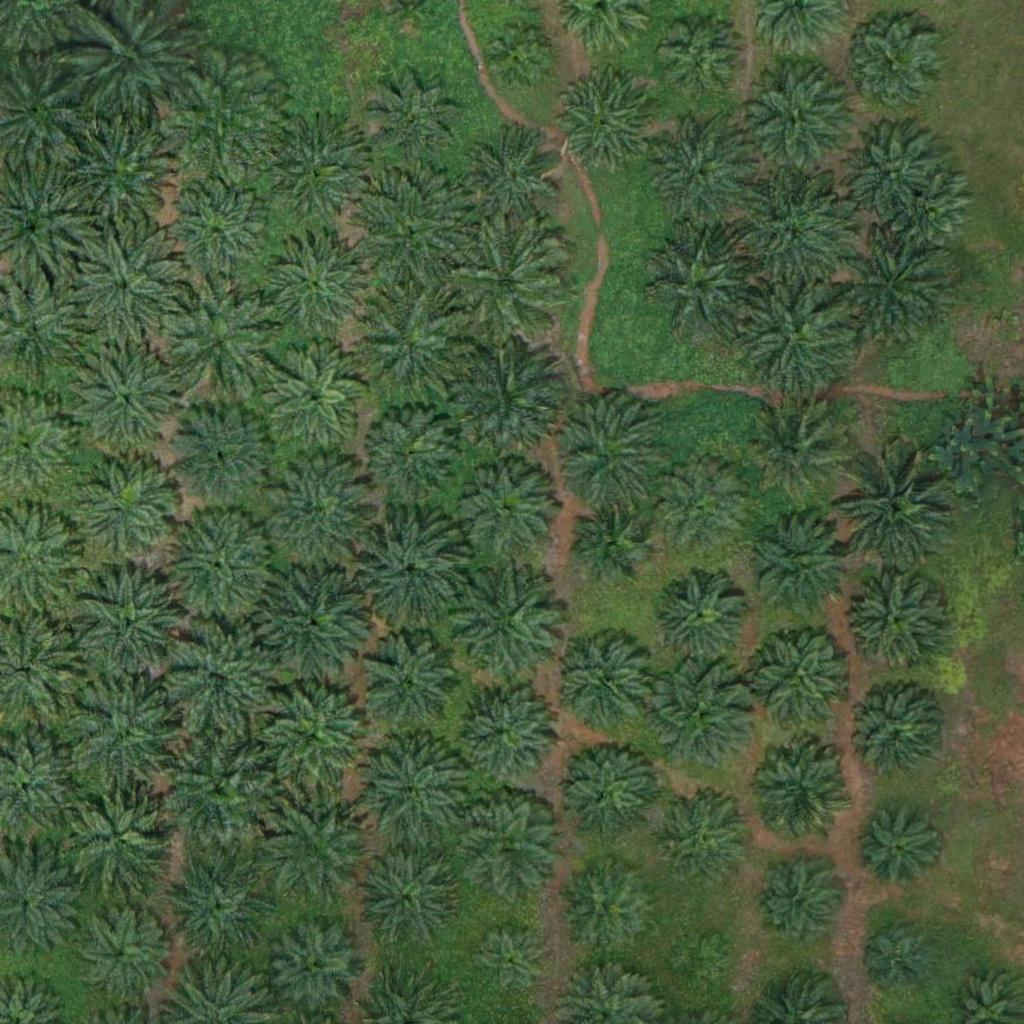Kelapa_Sawit: (166, 61, 279, 175), (447, 224, 560, 338), (551, 398, 664, 512), (743, 619, 856, 733), (641, 658, 754, 772), (743, 67, 856, 180), (58, 115, 171, 228), (161, 177, 274, 290), (165, 284, 278, 397), (162, 398, 275, 511), (265, 452, 378, 565), (257, 562, 370, 675), (736, 178, 849, 291), (838, 240, 951, 353), (358, 737, 471, 850), (259, 683, 372, 796), (70, 682, 183, 795), (61, 781, 174, 894), (256, 109, 368, 223), (260, 224, 372, 338), (355, 176, 467, 290), (352, 284, 464, 398), (452, 337, 564, 451), (449, 452, 561, 566), (841, 455, 953, 568), (357, 64, 469, 177), (67, 234, 179, 347), (68, 345, 180, 458), (73, 569, 185, 682), (161, 512, 273, 625), (162, 624, 274, 737), (353, 505, 465, 618), (451, 570, 563, 683), (645, 229, 757, 342), (741, 282, 853, 395), (746, 513, 858, 626), (261, 794, 373, 907), (164, 734, 276, 847), (160, 846, 272, 959), (751, 403, 851, 504), (651, 126, 751, 227), (553, 71, 653, 172), (74, 456, 174, 557), (264, 343, 364, 444), (359, 634, 459, 735), (459, 130, 559, 231), (845, 569, 945, 670), (658, 788, 758, 889), (556, 737, 656, 838), (560, 856, 660, 957), (456, 682, 556, 783), (457, 794, 557, 895), (357, 843, 457, 944), (267, 920, 367, 1021), (360, 400, 460, 500), (549, 633, 649, 733), (651, 456, 751, 556), (648, 568, 748, 668), (847, 683, 947, 783), (748, 743, 848, 843), (71, 902, 171, 1002), (655, 16, 743, 105), (852, 807, 940, 895), (854, 22, 941, 110), (847, 129, 934, 217), (882, 169, 969, 257), (754, 859, 841, 947), (572, 502, 647, 578), (470, 926, 545, 1001), (487, 25, 550, 88), (865, 927, 928, 990), (667, 930, 729, 993)
